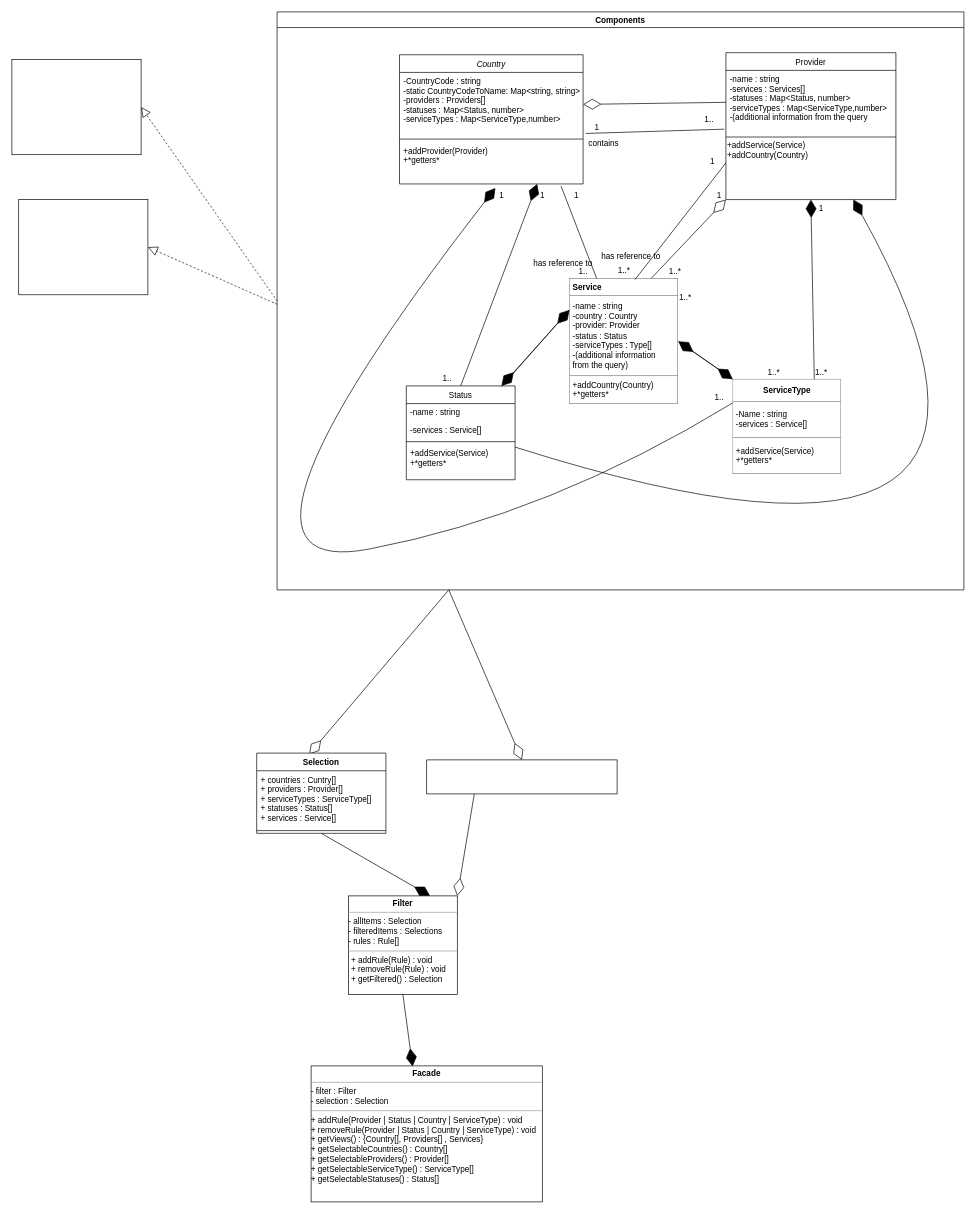
Some shapes in this 976 by 1214 pixel diagram are drawn without their labels. The centre of each missing label's shape, as x and y in pixels:
"<<Interface>> item + getText() : string + getChildren() : item" belongs at [83,247].
"<<Interface>> Settable<T> hashCode() : number isEqualTo(T) : boolean" belongs at [76,107].
"Class + item : Provider | Status | Country | ServiceType" belongs at [521,776].
